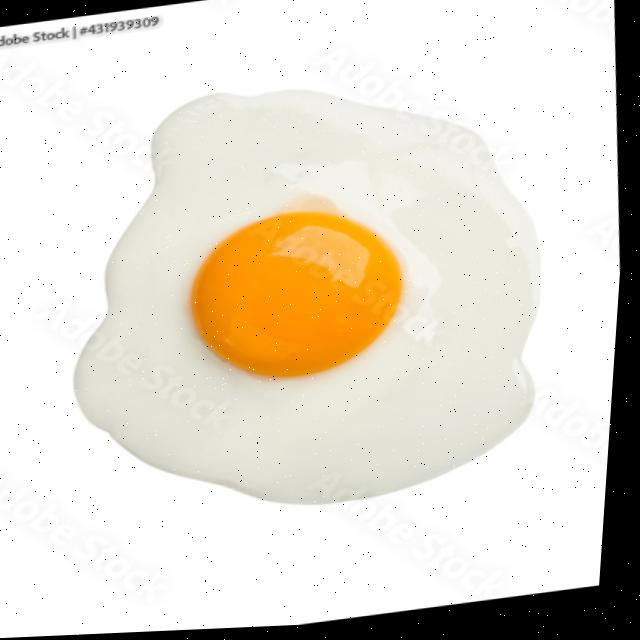Egg: (80, 94, 542, 507)
